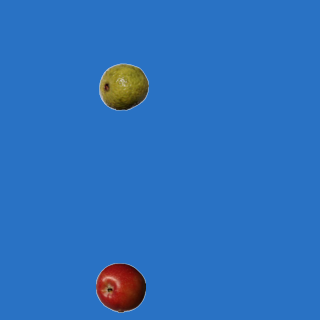Apple Braeburn: (95, 262, 145, 312)
Guava: (98, 61, 148, 111)
